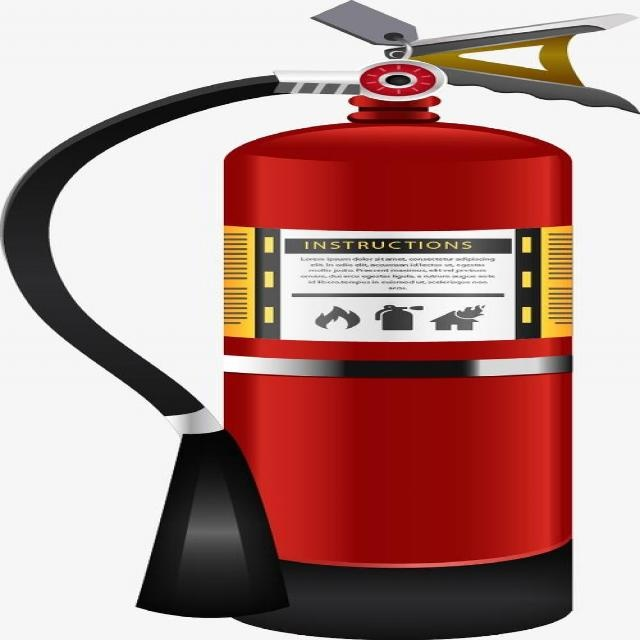fire extinguisher: (2, 1, 640, 639)
